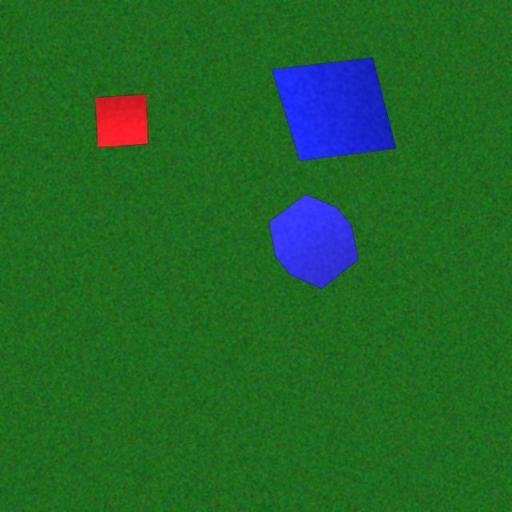BLUE_SQUARE: (271, 57, 397, 161)
RED_SQUARE: (94, 94, 148, 148)
